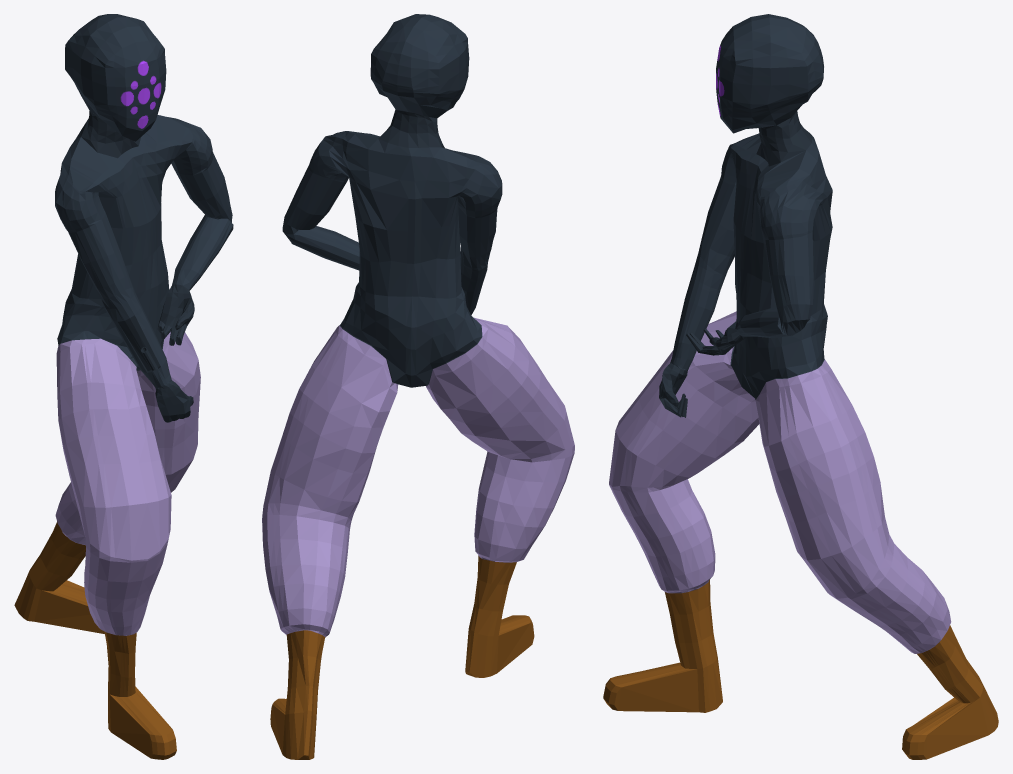
File: Oracle_WB_000015.obj
3 views of the same model, side by side, from view 1: azimuth 30°, elevation 25°; view 2: azimuth 150°, elevation 25°; view 3: azimuth 270°, elevation 25° (orthographic). The views are drawn at different scales.
Parts seen in each view (by area): view 1: Cube; view 2: Cube; view 3: Cube.
Boxes of the visible parts, box(x1,y1,x2,y2) form: Cube: box(14, 14, 233, 759); Cube: box(262, 14, 574, 759); Cube: box(603, 14, 998, 759).
Bounding box in the file's own units: 1.21 × 3.65 × 1.86.
